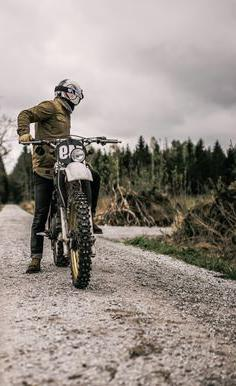motorcycle: (15, 130, 124, 292)
